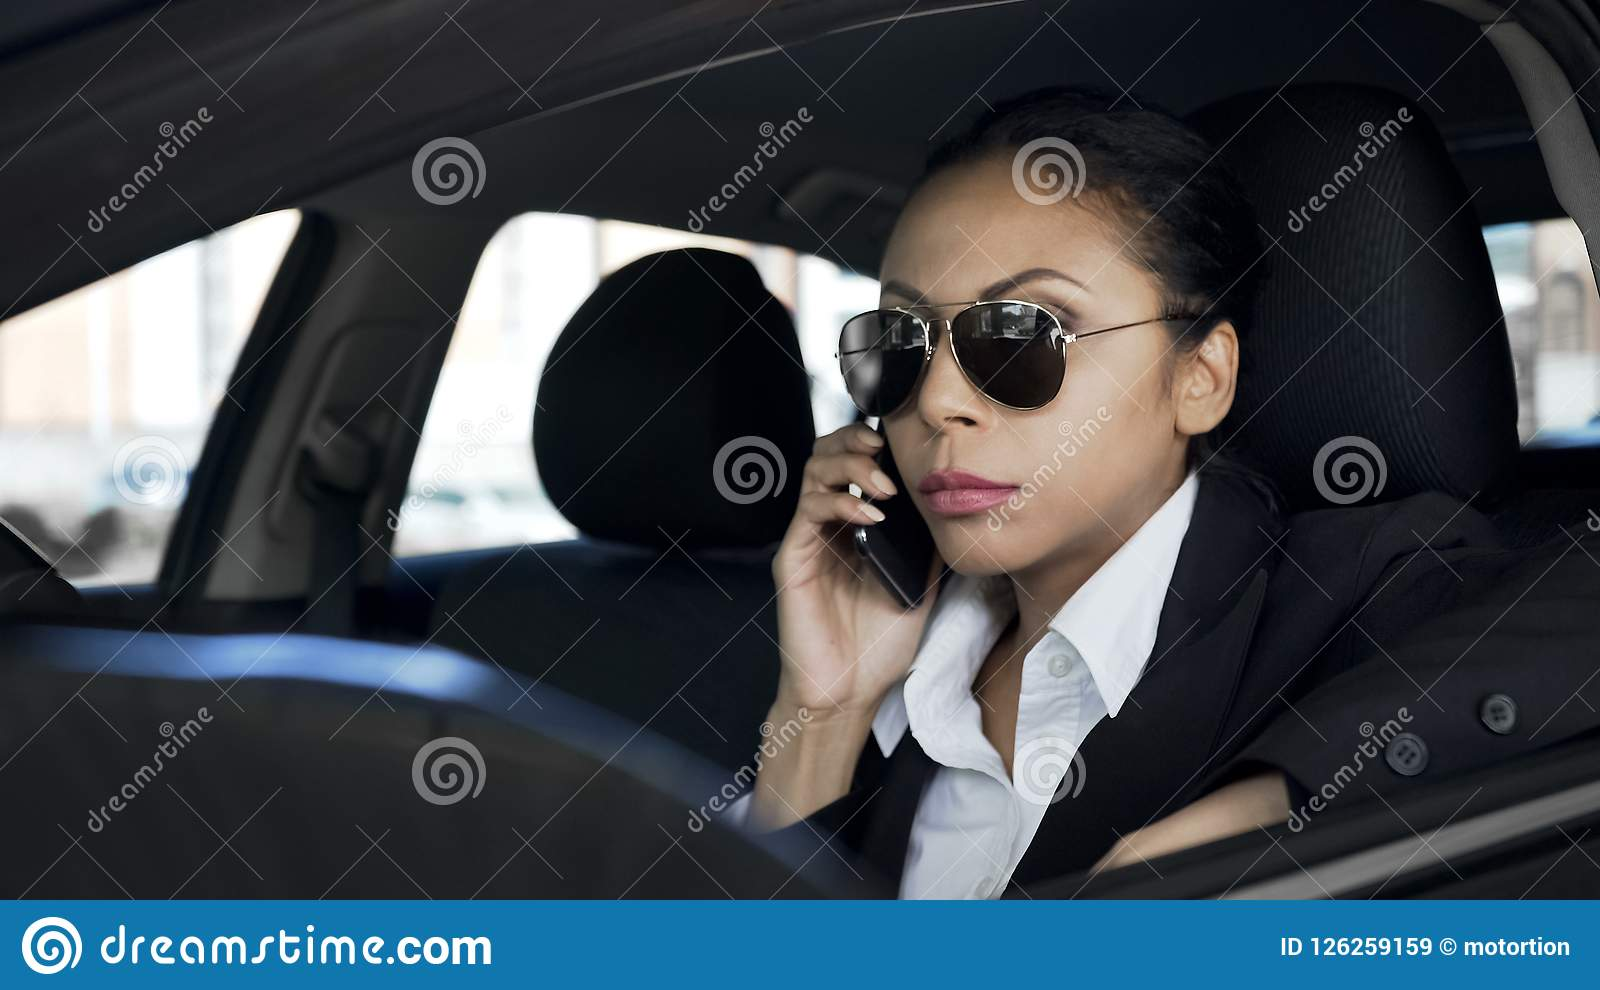phone: (840, 412, 943, 626)
talk: (770, 276, 1103, 744)
